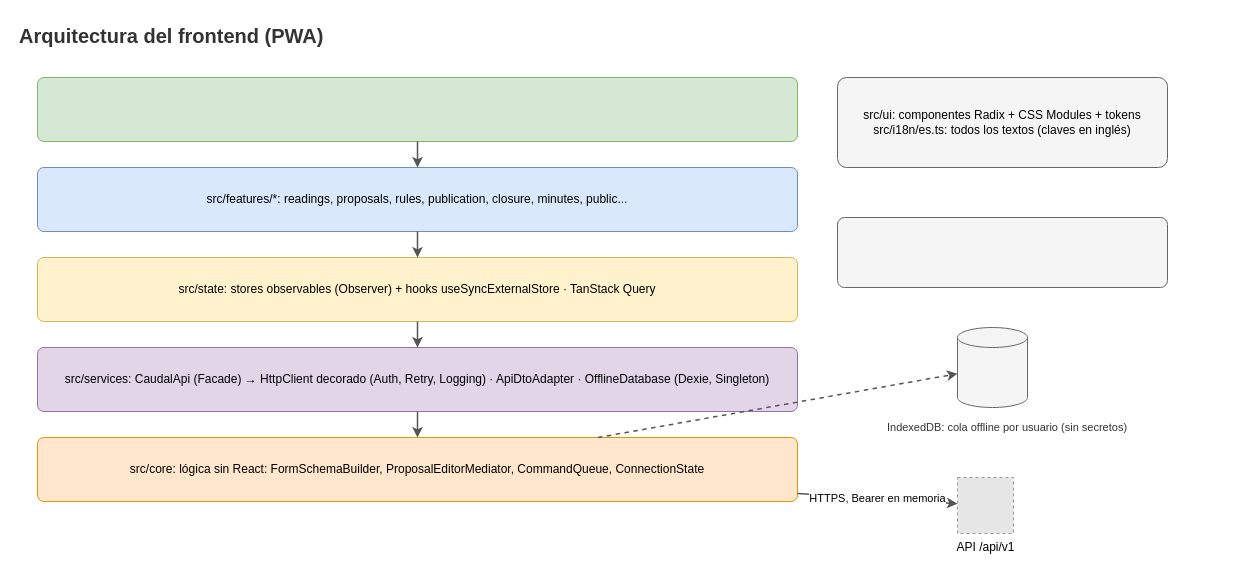
Image size: 1234x571. Some labels were removed from this diagram. Grey dashed boxes stand in for pictures. The box of each missing label's shape, as (x1, y1, x2, y2) in pixels:
Service worker (Workbox) precache de la app; la API no se cachea: (836, 216, 1168, 288)
src/app: router, providers, layouts por rol (guardas): (36, 76, 798, 142)
